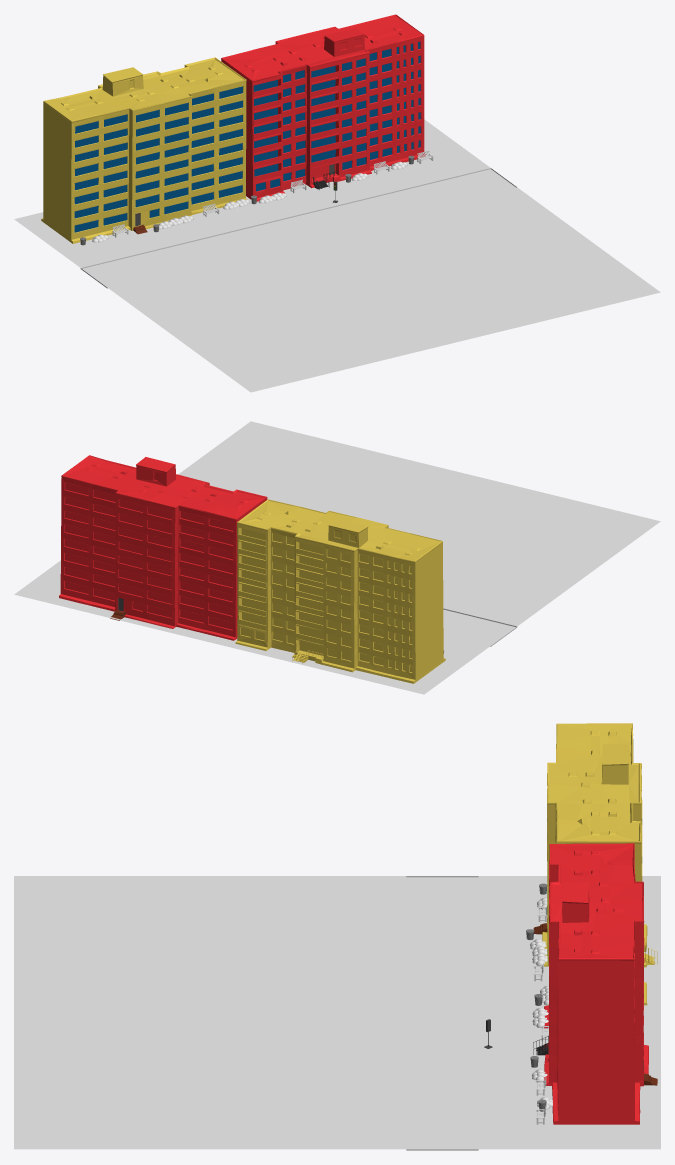
Rendered from Streets.fbx.
3 renders of one model, top to bottom at view 1: azimuth 30°, elevation 25°; view 2: azimuth 150°, elevation 25°; view 3: azimuth 270°, elevation 25°, orthographic. The views are drawn at different scales.
Parts seen in each view (by area): view 1: Plane, Stairs, Stairs.001, Plane.001, wINDOWS, windowss, Cube.015; view 2: Plane, Stairs, Stairs.001, Plane.001; view 3: Plane, Stairs.001, Plane.001, Stairs, Cube.015, Plane.002.
Part boxes in pixels (box(x1,y1,x2,y2)): Plane: box(14, 119, 660, 392); Stairs: box(41, 57, 247, 243); Stairs.001: box(221, 14, 425, 201); Plane.001: box(82, 169, 515, 287); wINDOWS: box(74, 86, 242, 232); windowss: box(253, 42, 420, 191); Cube.015: box(92, 161, 407, 242); Plane: box(14, 421, 660, 694); Stairs: box(235, 499, 445, 683); Stairs.001: box(59, 455, 267, 640); Plane.001: box(443, 609, 515, 645); Plane: box(14, 876, 660, 1150); Stairs.001: box(543, 843, 648, 1124); Plane.001: box(406, 877, 478, 1149); Stairs: box(542, 723, 657, 1005); Cube.015: box(530, 897, 552, 1109); Plane.002: box(409, 1030, 473, 1049).
Size of the model in its own units: 8510 by 2771 by 8510.
